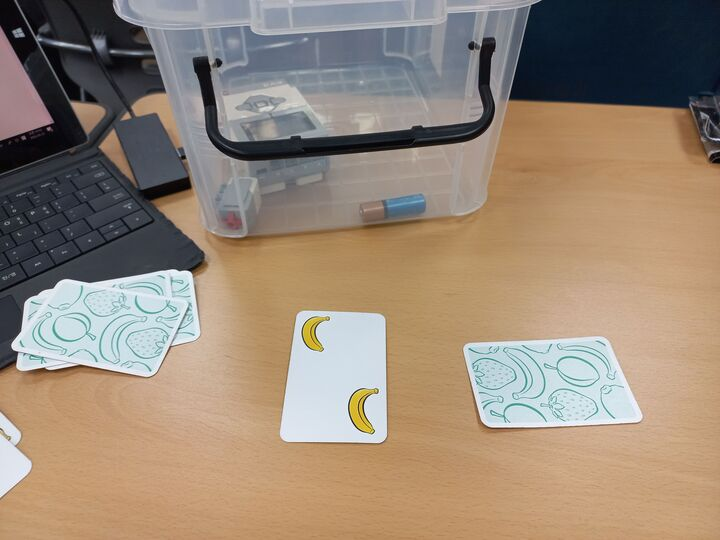banana2: (276, 307, 391, 446)
